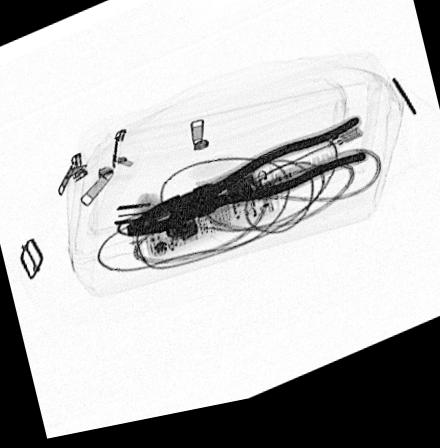Pliers: (123, 126, 369, 243)
